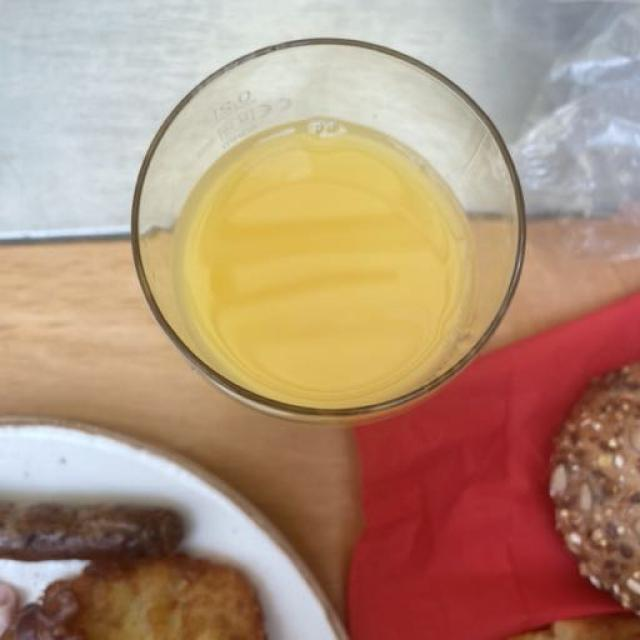juice: (171, 124, 468, 403)
